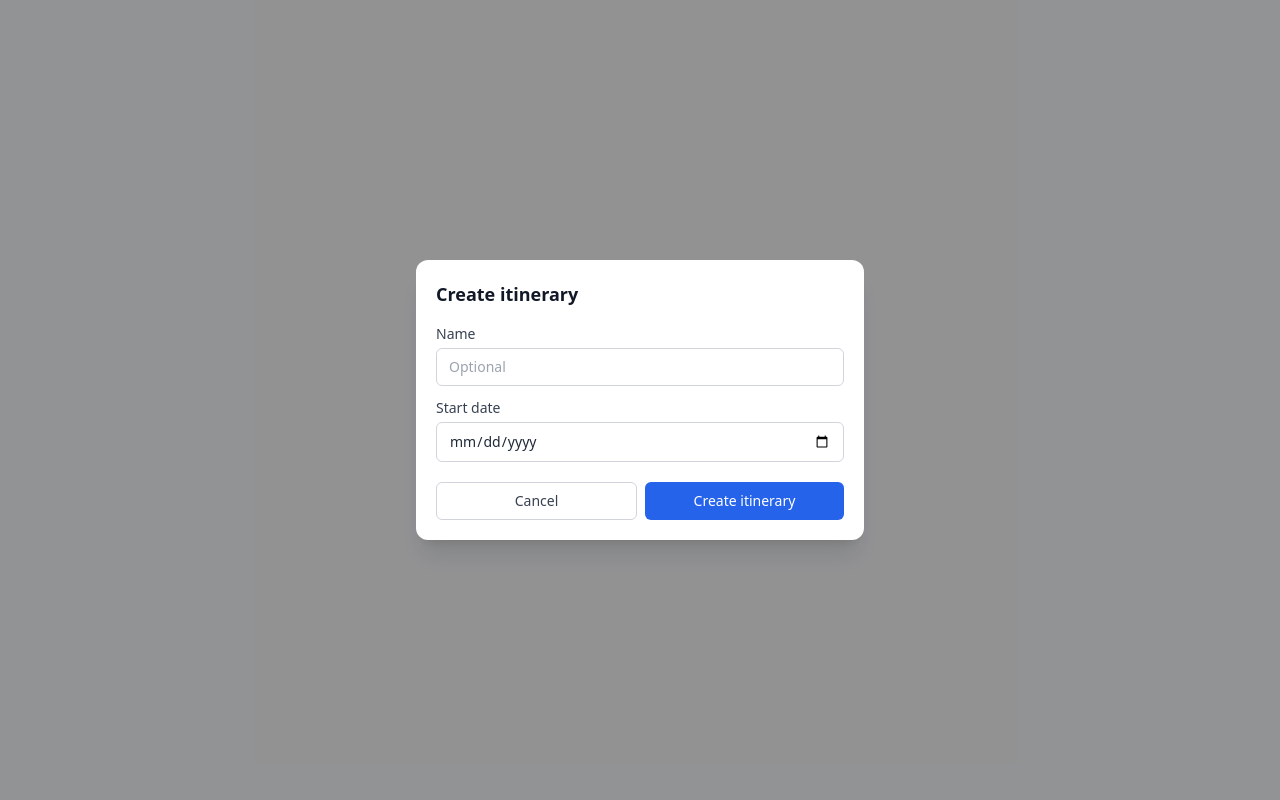
Test case: CreateItineraryModal › shows mapped API field errors
In the date field labelled "Start date": [640, 442] box [436, 422, 844, 462], type "2026-01-01"
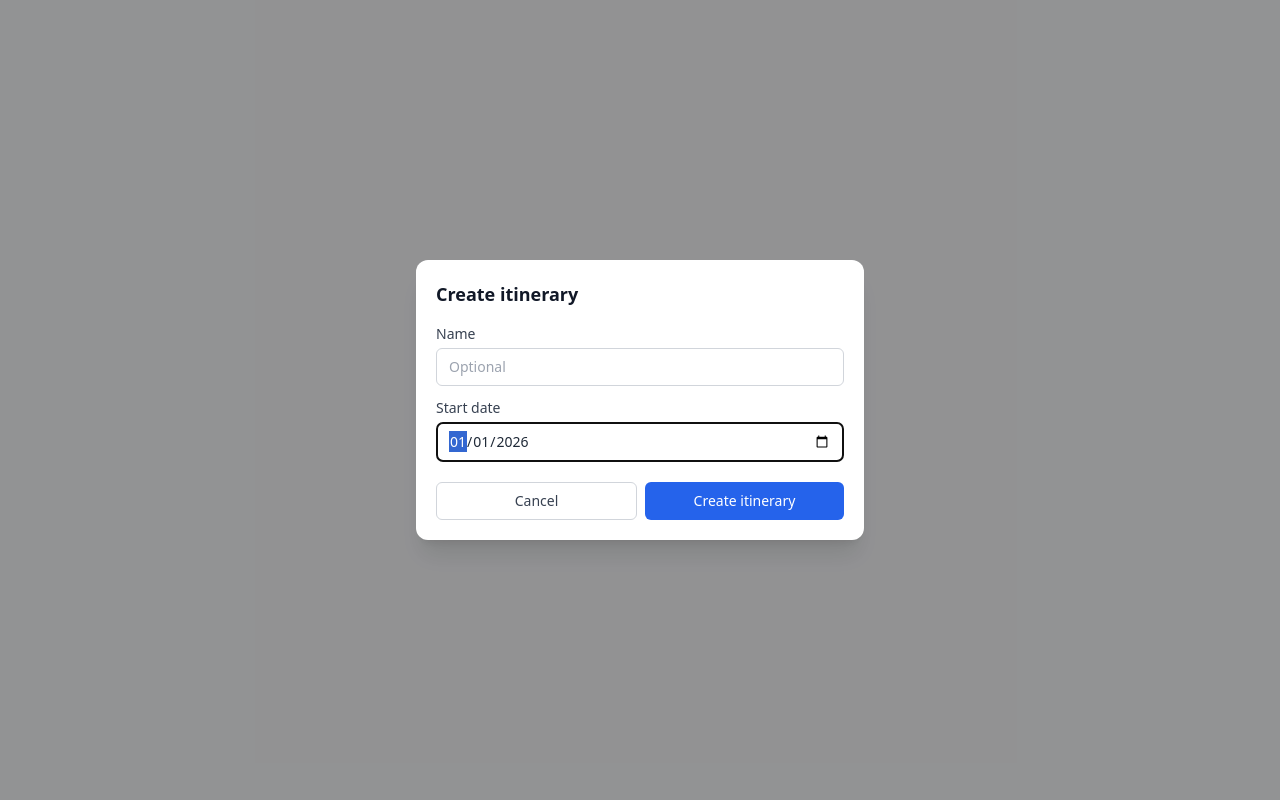
Click the button "Create itinerary": [744, 501] box [645, 482, 844, 520]
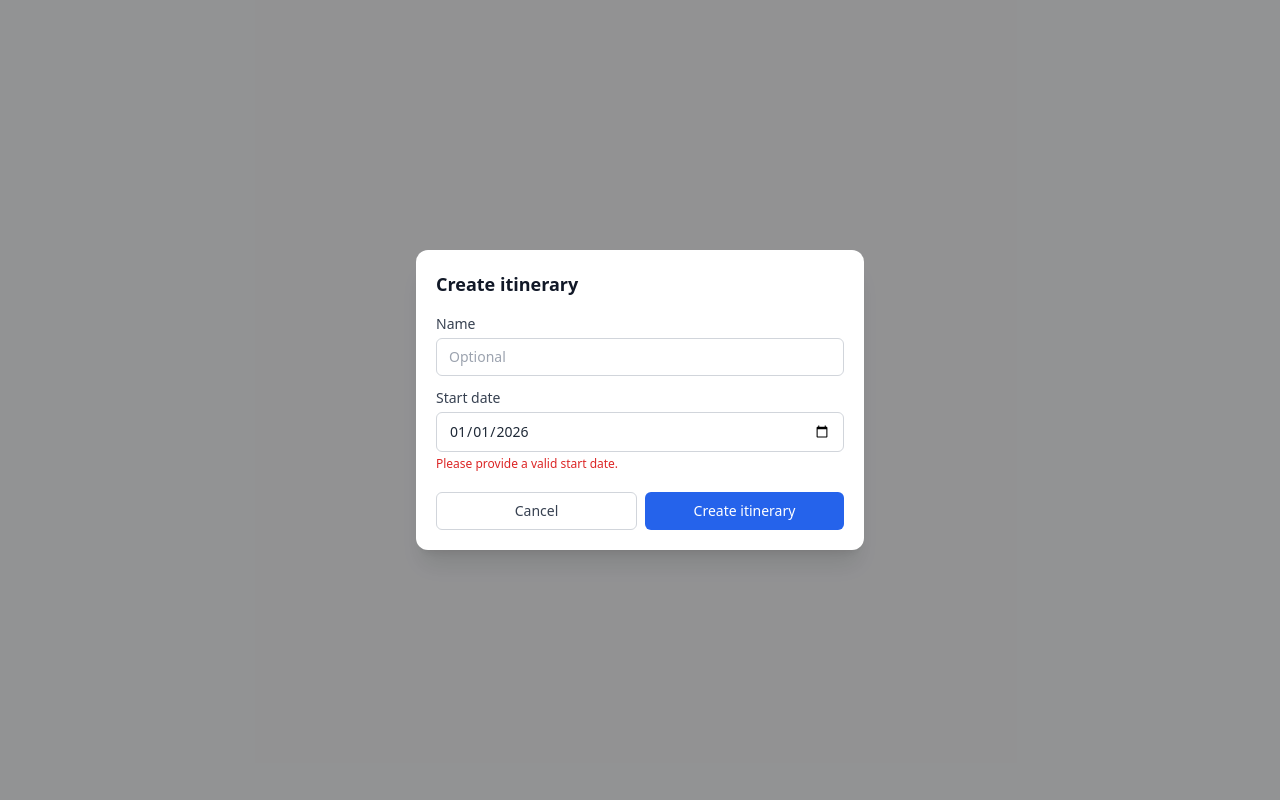
expect the message shows "valid start date": met, box [436, 455, 618, 472]
